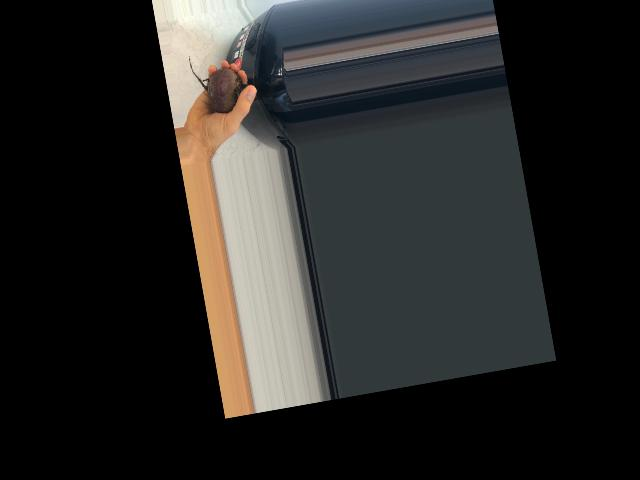beet: (188, 46, 251, 117)
